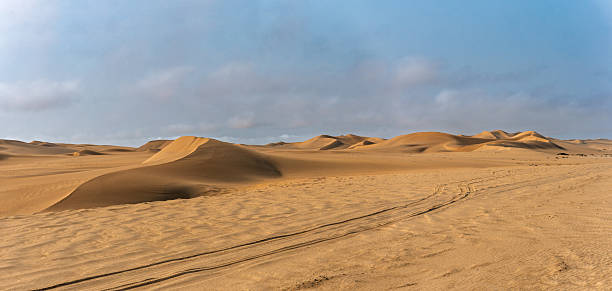vehicle_track: (37, 173, 511, 289)
